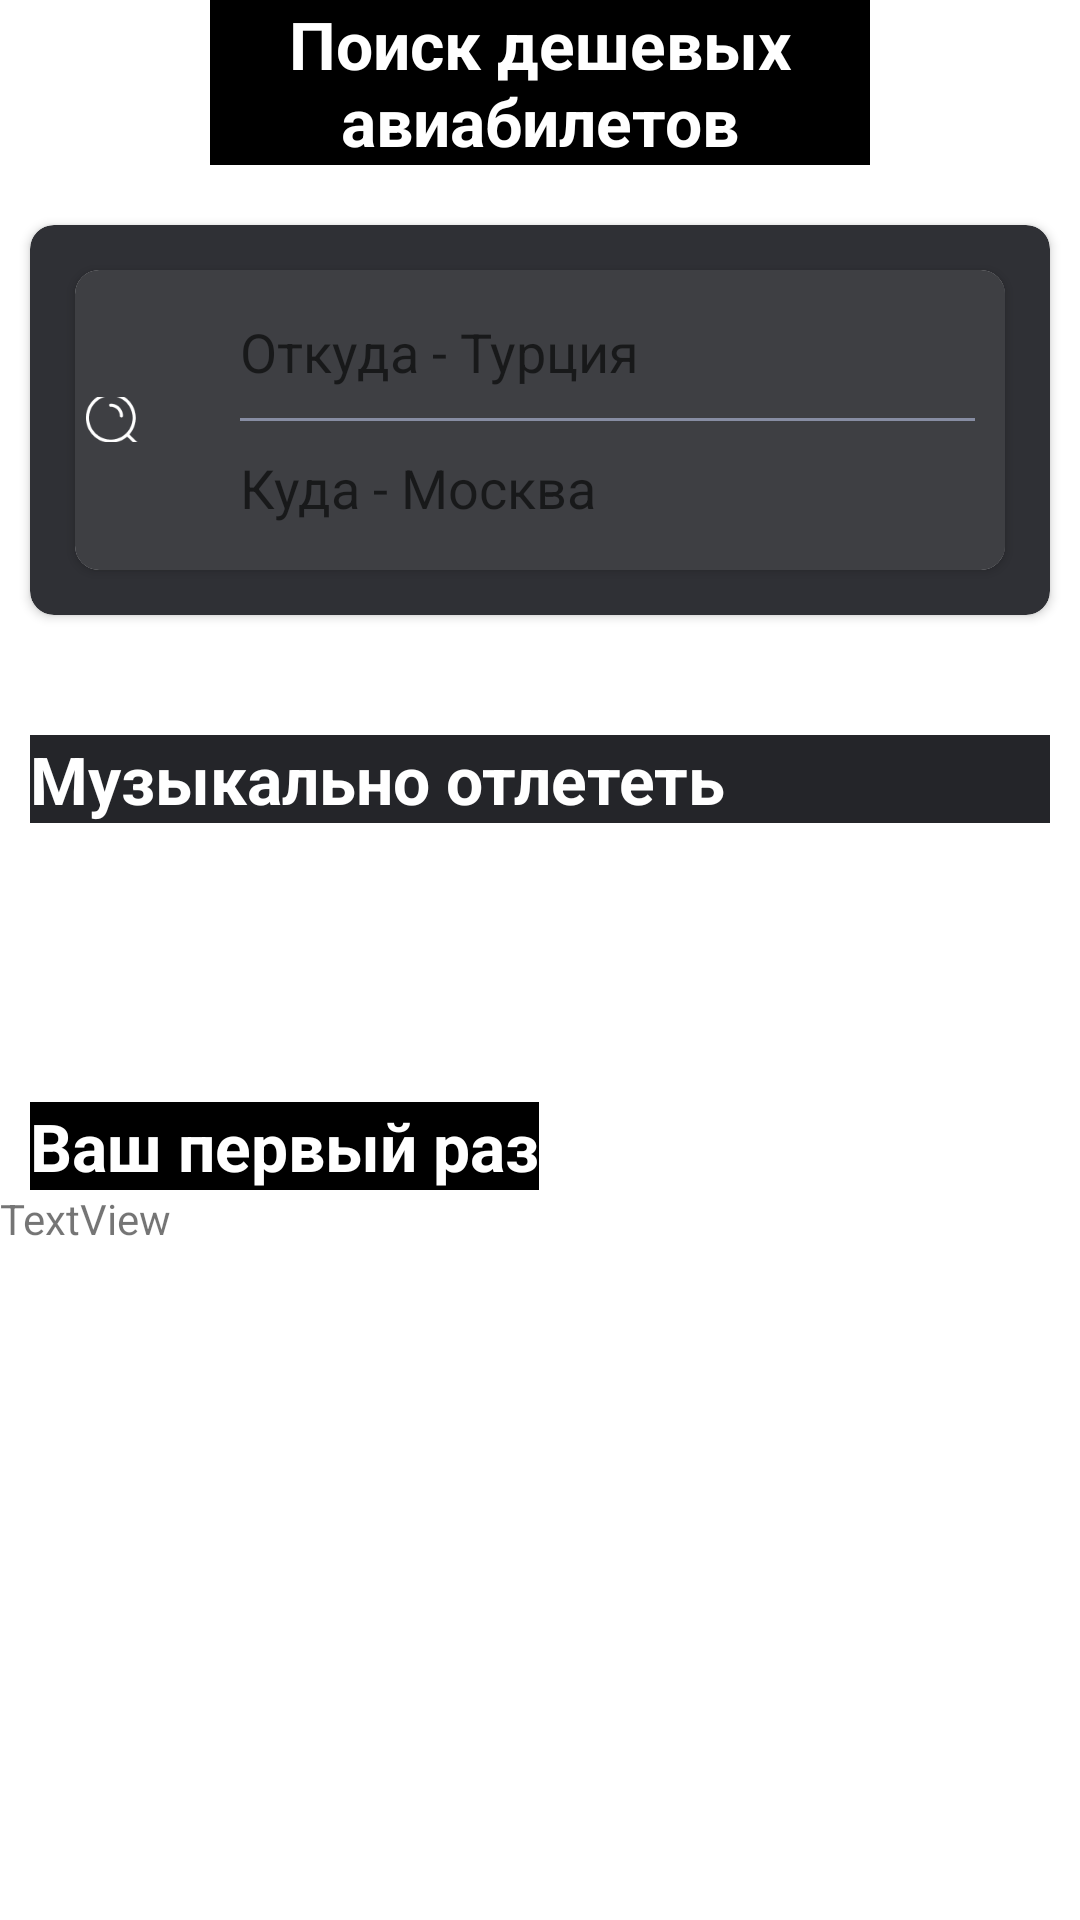

Named icons in this screenshot (1080*1920) and their bounding boxes, (x1, y1, x2, y2):
search: (86, 397, 137, 442)
